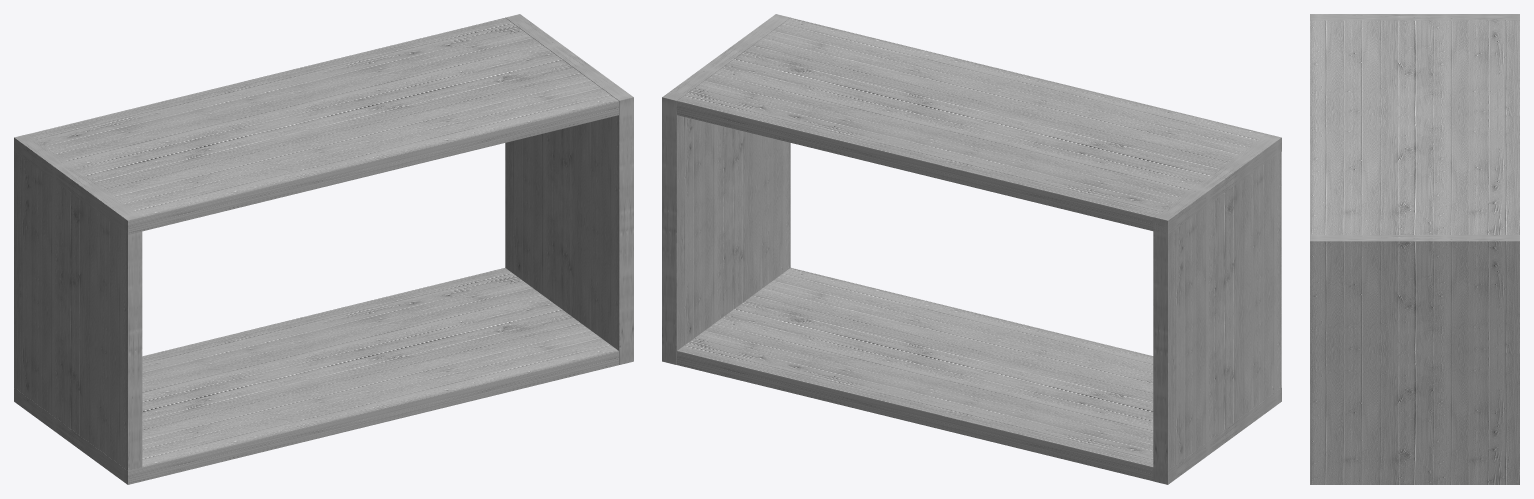
The model's file is book shelf wall.FBX.
3 renders of one model, left to right at view 1: azimuth 30°, elevation 25°; view 2: azimuth 150°, elevation 25°; view 3: azimuth 270°, elevation 25°, orthographic. The views are drawn at different scales.
Visible parts, largest first — view 1: Box001, Box002, Box004, Box003; view 2: Box001, Box002, Box004, Box003; view 3: Box003, Box001, Box004.
Boxes of the visible parts, x1=… form: Box001: x1=14, y1=18, x2=618, y2=234; Box002: x1=14, y1=268, x2=618, y2=484; Box004: x1=14, y1=134, x2=142, y2=470; Box003: x1=505, y1=14, x2=633, y2=364; Box001: x1=677, y1=18, x2=1281, y2=234; Box002: x1=677, y1=268, x2=1281, y2=484; Box004: x1=1153, y1=134, x2=1281, y2=484; Box003: x1=662, y1=14, x2=790, y2=364; Box003: x1=1310, y1=235, x2=1519, y2=484; Box001: x1=1310, y1=14, x2=1519, y2=234; Box004: x1=1310, y1=14, x2=1519, y2=20.
Size of the model in its own units: 31.61 by 15.78 by 12.32.
1 material, 1 textured.
